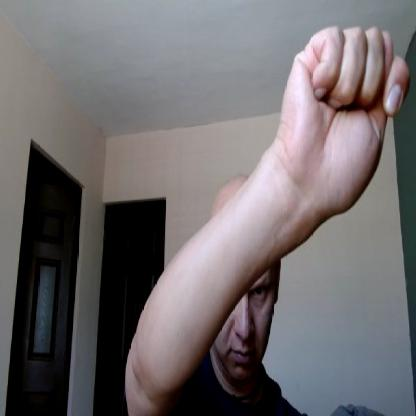T: (281, 27, 410, 216)
